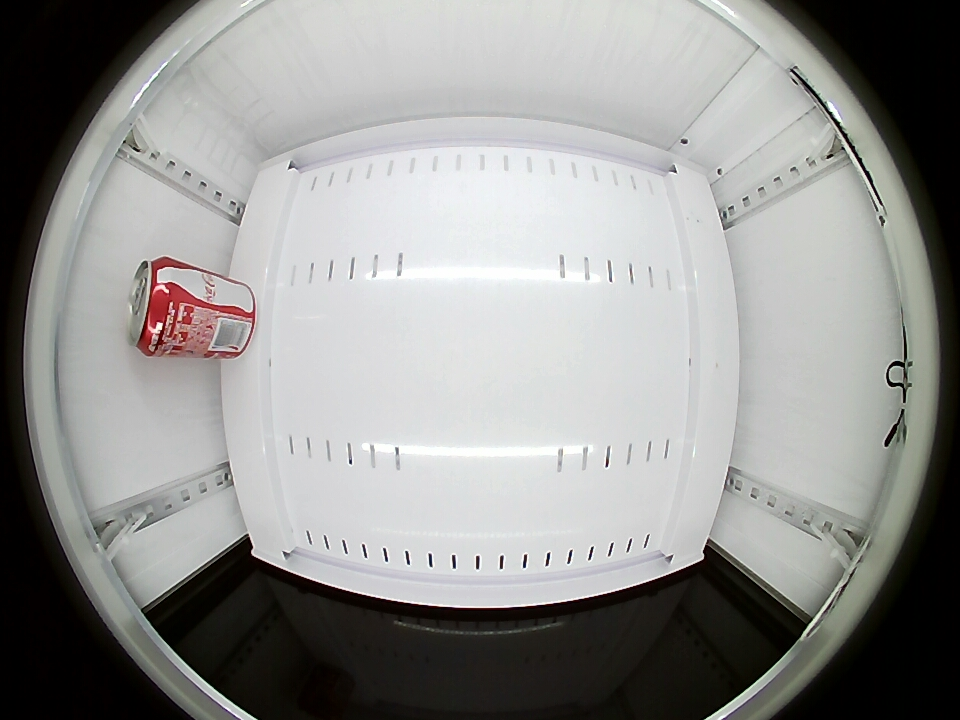kele: (128, 257, 186, 356)
